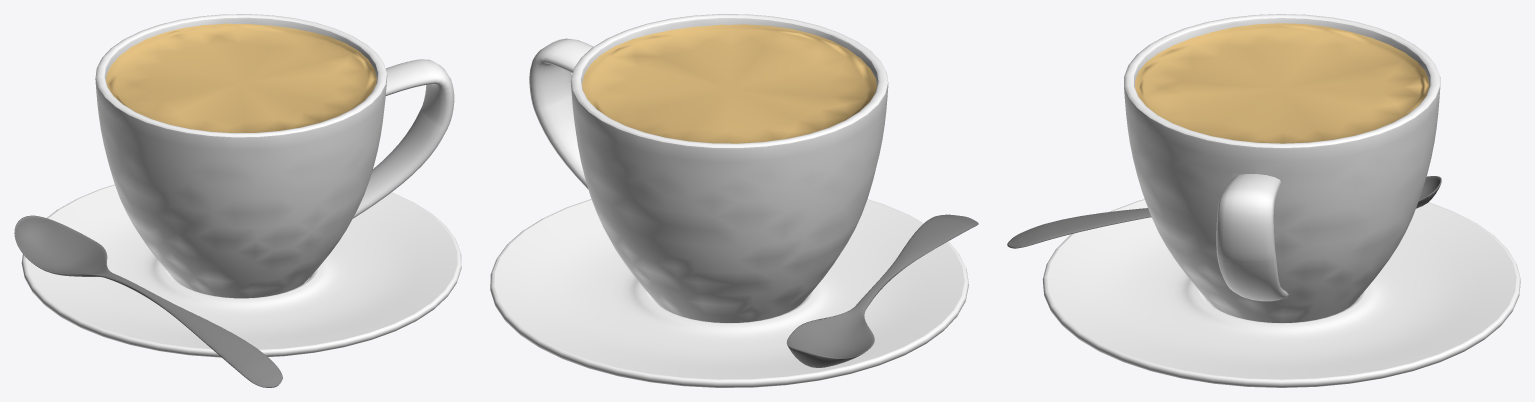
Rendered from coffee.dae.
3 renders of one model, left to right at view 1: azimuth 30°, elevation 25°; view 2: azimuth 150°, elevation 25°; view 3: azimuth 270°, elevation 25°, orthographic. The views are drawn at different scales.
Parts seen in each view (by area): view 1: cup, plate, cappuccino, spoon; view 2: cup, plate, cappuccino, spoon; view 3: cup, plate, cappuccino, spoon.
Part boxes in pixels (bbox=[...]): cup: bbox=[95, 14, 454, 298]; plate: bbox=[21, 184, 461, 357]; cappuccino: bbox=[106, 23, 376, 132]; spoon: bbox=[14, 215, 282, 387]; cup: bbox=[529, 14, 888, 322]; plate: bbox=[490, 199, 968, 387]; cappuccino: bbox=[582, 24, 876, 143]; spoon: bbox=[786, 214, 978, 367]; cup: bbox=[1124, 14, 1440, 322]; plate: bbox=[1042, 199, 1520, 387]; cappuccino: bbox=[1135, 23, 1429, 143]; spoon: bbox=[1007, 176, 1441, 248].
Size of the model in its own units: 13.31 by 14.26 by 7.47.
